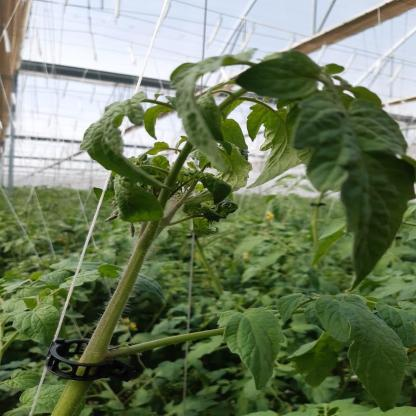T_L_H: (295, 91, 416, 285), (316, 295, 409, 411), (218, 310, 285, 391)
T_S_H: (80, 222, 163, 364), (109, 328, 225, 359), (158, 143, 194, 207), (52, 382, 91, 416)
